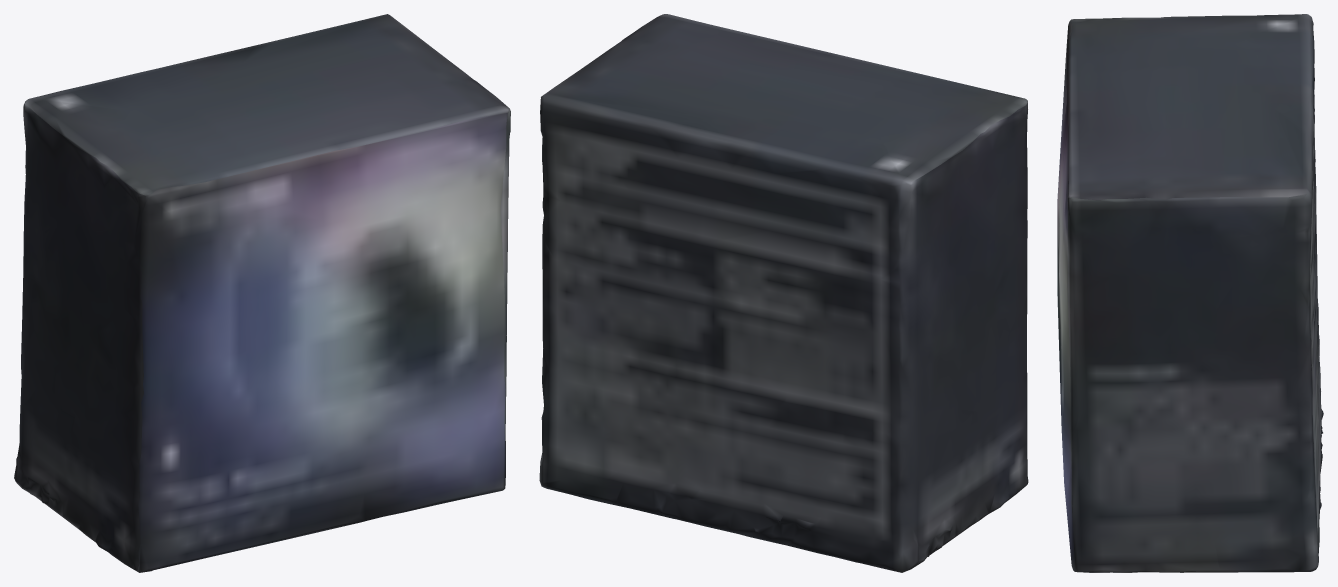
Rendered from Perricone_MD_Photo_Plasma-medium.glb.
The picture shows the model from 3 angles, left to right: view 1: azimuth 30°, elevation 25°; view 2: azimuth 150°, elevation 25°; view 3: azimuth 270°, elevation 25°; orthographic projection.
Visible parts, largest first — view 1: Perricone_MD_Photo_Plasma; view 2: Perricone_MD_Photo_Plasma; view 3: Perricone_MD_Photo_Plasma.
Part boxes in pixels (x1,y1,x2,y2): Perricone_MD_Photo_Plasma: (14, 14, 510, 572); Perricone_MD_Photo_Plasma: (539, 14, 1028, 572); Perricone_MD_Photo_Plasma: (1057, 14, 1323, 572).
Bounding box in the file's own units: 0.1058 × 0.1048 × 0.0652.
1 material, 1 textured.
